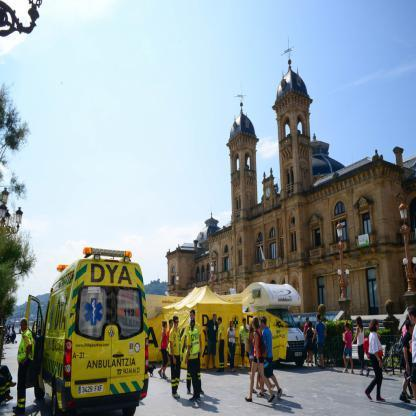Ambulance - v1 Ambulance last generate: (24, 246, 149, 416)
